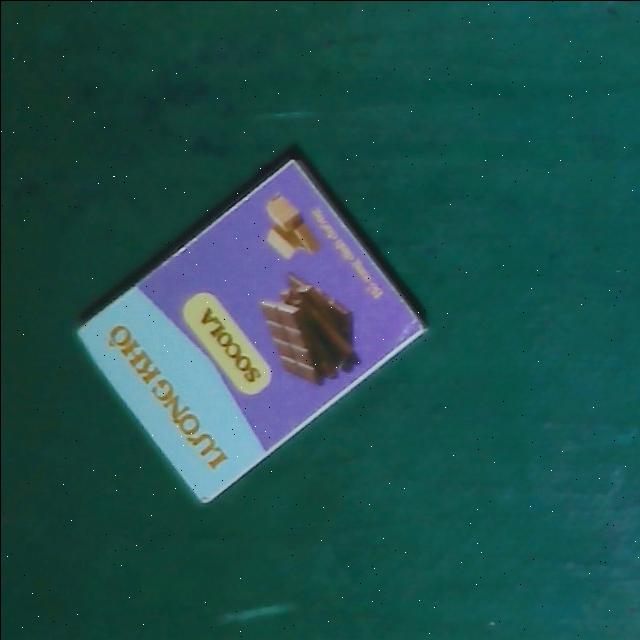socola: (68, 154, 430, 505)
